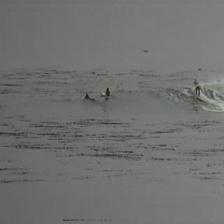surfer: (193, 86, 204, 96), (84, 93, 96, 101), (105, 88, 111, 96), (192, 79, 198, 86)
